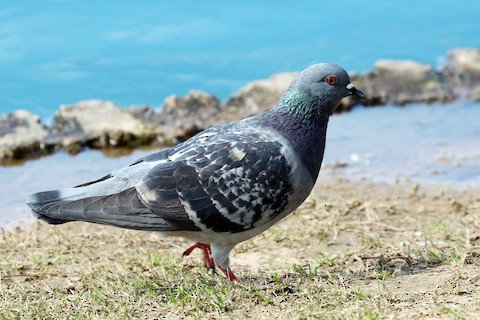pigeon: (24, 53, 367, 289)
